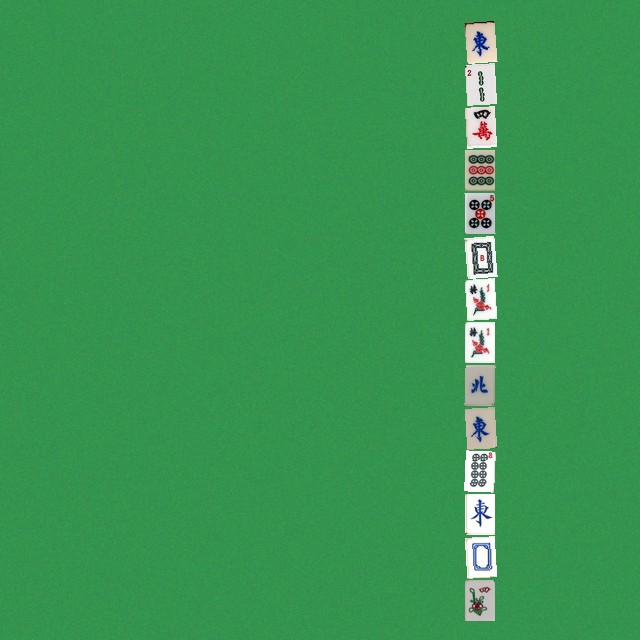tile: (464, 20, 494, 61), (464, 63, 494, 104), (464, 106, 494, 147), (464, 149, 494, 190), (464, 192, 494, 233), (464, 235, 494, 276), (464, 278, 494, 319), (464, 321, 494, 362), (464, 364, 494, 405), (464, 407, 494, 448), (464, 450, 494, 491), (464, 493, 494, 534), (464, 536, 494, 577), (464, 579, 494, 620)
